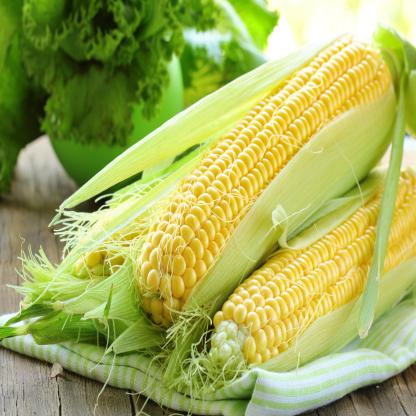---: (124, 26, 406, 334), (206, 158, 416, 390)
